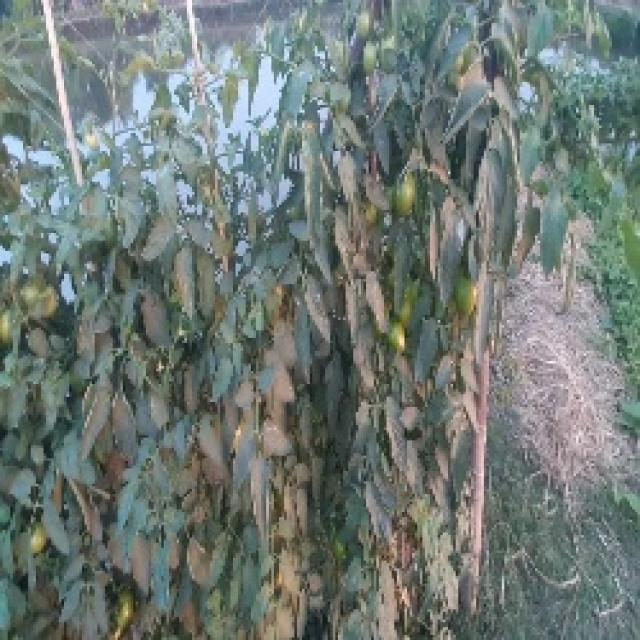tomato: (23, 278, 62, 317), (447, 281, 482, 314), (25, 526, 55, 560), (117, 596, 139, 626), (360, 49, 380, 78), (384, 323, 404, 345), (356, 16, 373, 38), (399, 179, 411, 206)
